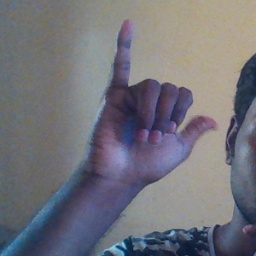J: (89, 18, 221, 179)
